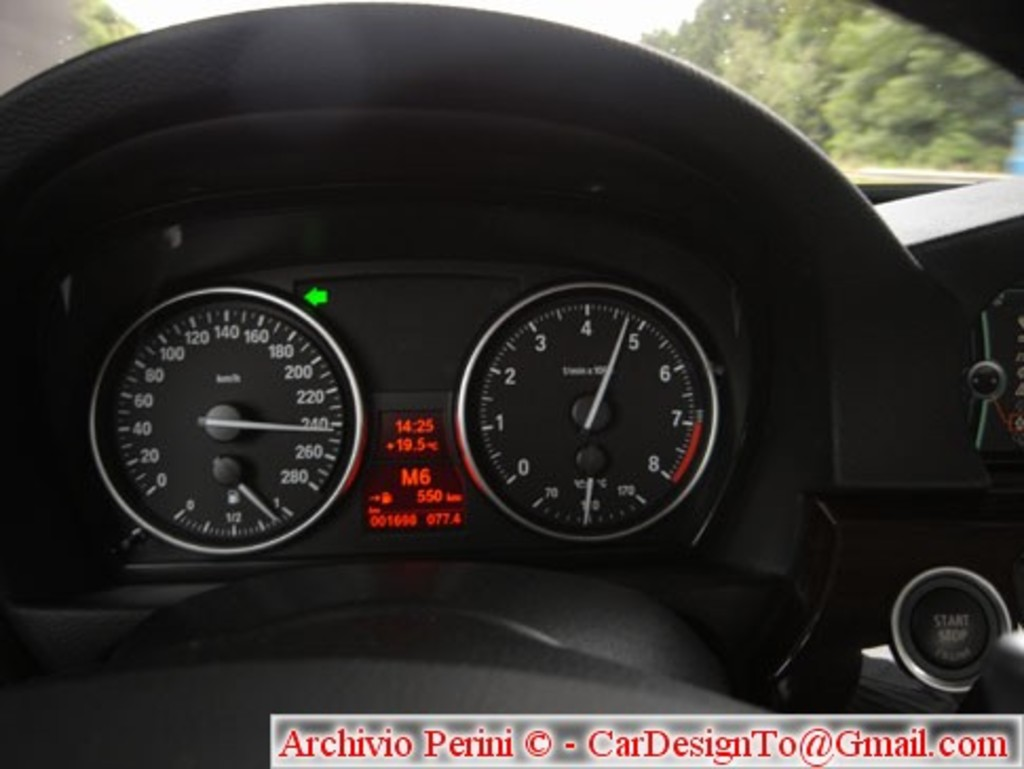Car: (4, 0, 1021, 766)
